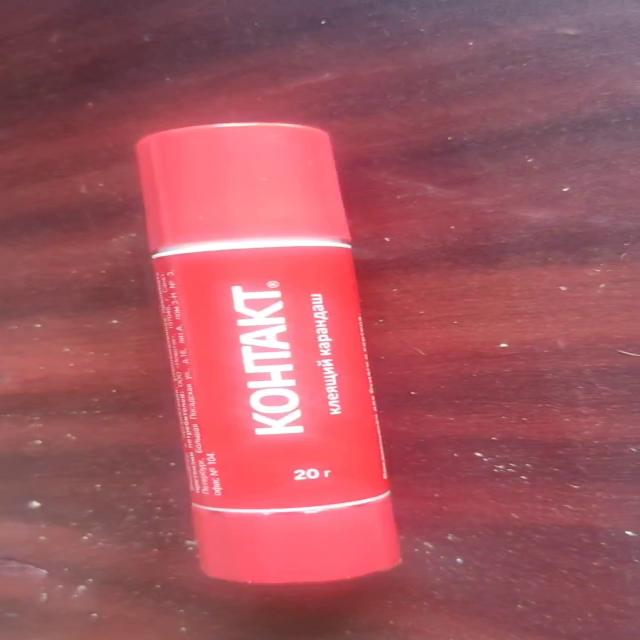glue: (133, 121, 403, 585)
